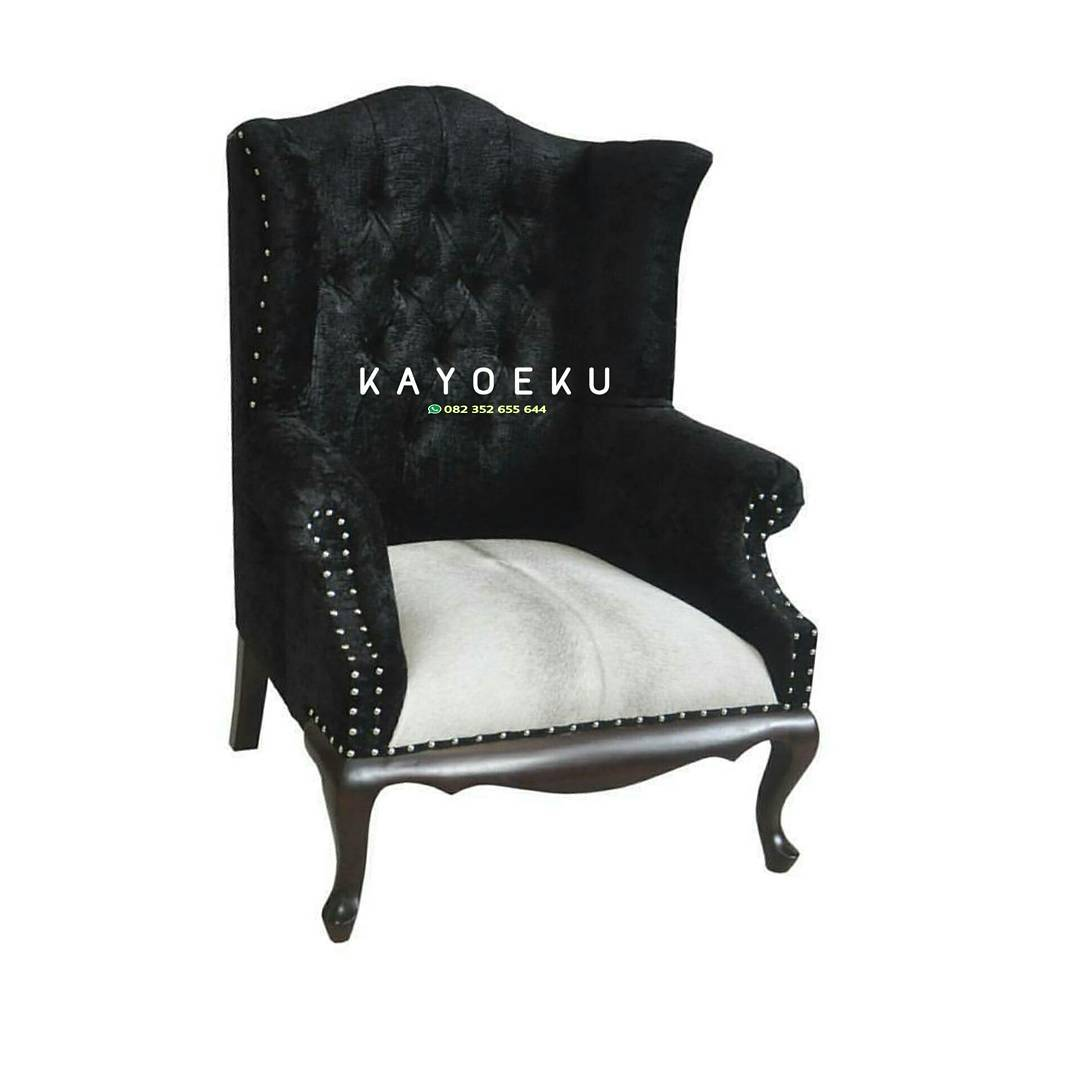Carving Chair: (207, 95, 890, 918)
